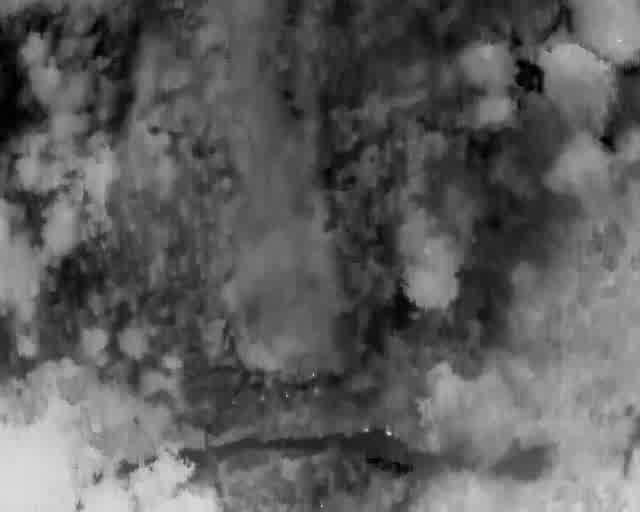car: (327, 171, 346, 209)
person: (358, 234, 367, 249), (353, 227, 361, 243)
